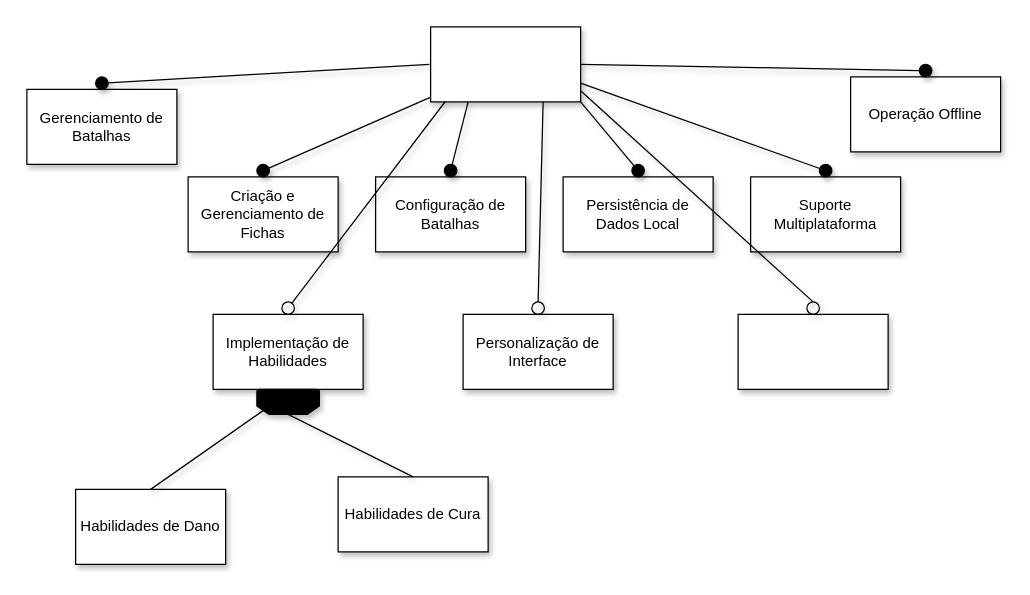
Image size: 1030x595. Some labels were removed from this diagram. The centre of each missing label's shape, as x and y in pixels:
Beluken RPG Battle Manager: the point at 506,66
Evolução e Expansão de Regras: the point at 814,353
